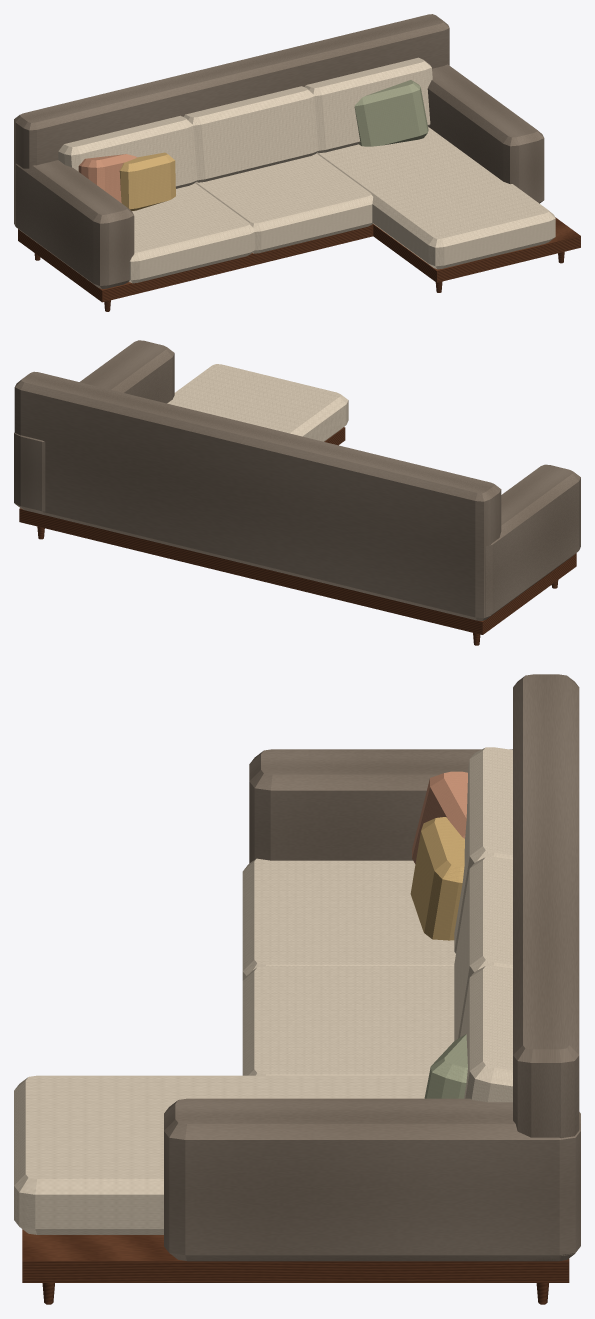
The model's file is sofa_l_modern.glb.
The picture shows the model from 3 angles, top to bottom: view 1: azimuth 30°, elevation 25°; view 2: azimuth 150°, elevation 25°; view 3: azimuth 270°, elevation 25°; orthographic projection. The views are drawn at different scales.
Parts seen in each view (by area): view 1: sofa_l_modern_fabricLinen, sofa_l_modern_fabricVelvet, sofa_l_modern_woodWalnut, sofa_l_modern_pillowSage, sofa_l_modern_pillowMustard, sofa_l_modern_pillowTerra; view 2: sofa_l_modern_fabricVelvet, sofa_l_modern_fabricLinen, sofa_l_modern_woodWalnut; view 3: sofa_l_modern_fabricVelvet, sofa_l_modern_fabricLinen, sofa_l_modern_woodWalnut, sofa_l_modern_pillowMustard, sofa_l_modern_pillowTerra, sofa_l_modern_pillowSage.
Boxes of the visible parts, x1,y1,x2,y2 form: sofa_l_modern_fabricLinen: (58,57,555,283); sofa_l_modern_fabricVelvet: (14,14,544,288); sofa_l_modern_woodWalnut: (18,217,580,311); sofa_l_modern_pillowSage: (354,80,428,146); sofa_l_modern_pillowMustard: (119,152,175,210); sofa_l_modern_pillowTerra: (78,154,136,202); sofa_l_modern_fabricVelvet: (14,340,580,620); sofa_l_modern_fabricLinen: (167,364,348,441); sofa_l_modern_woodWalnut: (19,427,576,645); sofa_l_modern_fabricVelvet: (164,674,580,1261); sofa_l_modern_fabricLinen: (14,747,512,1234); sofa_l_modern_woodWalnut: (22,1229,569,1304); sofa_l_modern_pillowMustard: (410,817,464,940); sofa_l_modern_pillowTerra: (412,771,467,863); sofa_l_modern_pillowSage: (424,1034,467,1098).
Size of what is drawn, in the model's own units: 2.65 by 0.85 by 1.65.
7 materials, 6 textured.
